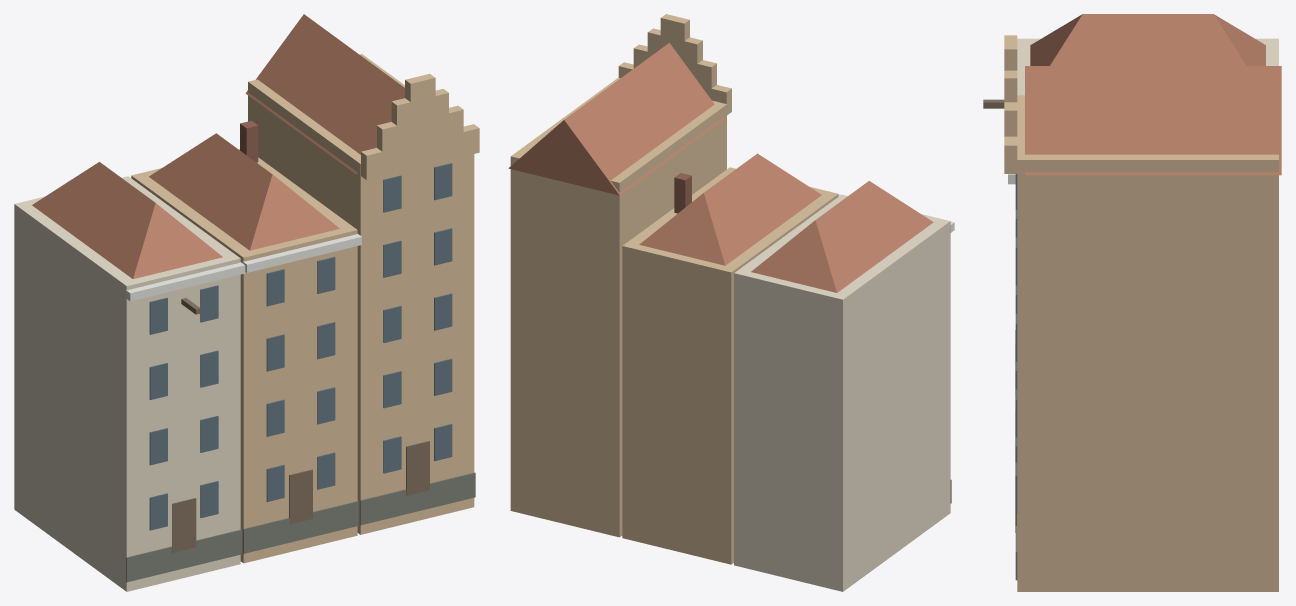
The model's file is CanalRowShort.glb.
3 renders of one model, left to right at view 1: azimuth 30°, elevation 25°; view 2: azimuth 150°, elevation 25°; view 3: azimuth 270°, elevation 25°, orthographic. The views are drawn at different scales.
Visible parts, largest first — view 1: House.008, House.010, House.009, Roof.005, Hip roof.003, Hip roof.004, Stepped gable.020, Water stain.010, Water stain.008, Water stain.009, Stepped gable.021, Cornice.003 (+33 smaller); view 2: House.008, House.010, House.009, Roof.005, Hip roof.004, Hip roof.003, Stepped gable.022, Stepped gable.021, Stepped gable.023, Stepped gable.020, Chimney.003; view 3: House.010, Roof.005, Hip roof.003, House.008, Stepped gable.020, Stepped gable.023, Stepped gable.021, Stepped gable.022.
Part boxes in pixels (x1=…): House.008: x1=14, y1=176, x2=240, y2=591; House.010: x1=248, y1=54, x2=474, y2=534; House.009: x1=131, y1=149, x2=357, y2=563; Roof.005: x1=245, y1=14, x2=404, y2=173; Hip roof.003: x1=32, y1=162, x2=222, y2=278; Hip roof.004: x1=149, y1=133, x2=339, y2=250; Stepped gable.020: x1=361, y1=124, x2=479, y2=179; Water stain.010: x1=360, y1=472, x2=475, y2=525; Water stain.008: x1=126, y1=529, x2=241, y2=582; Water stain.009: x1=243, y1=501, x2=358, y2=553; Stepped gable.021: x1=377, y1=105, x2=463, y2=151; Cornice.003: x1=125, y1=262, x2=245, y2=301; House.008: x1=734, y1=194, x2=950, y2=591; House.010: x1=510, y1=77, x2=726, y2=537; House.009: x1=622, y1=167, x2=838, y2=564; Roof.005: x1=508, y1=43, x2=724, y2=195; Hip roof.004: x1=639, y1=153, x2=821, y2=265; Hip roof.003: x1=751, y1=181, x2=933, y2=292; Stepped gable.022: x1=647, y1=28, x2=702, y2=63; Stepped gable.021: x1=633, y1=44, x2=716, y2=88; Stepped gable.023: x1=660, y1=14, x2=689, y2=41; Stepped gable.020: x1=618, y1=62, x2=731, y2=115; Chimney.003: x1=674, y1=173, x2=691, y2=213; House.010: x1=1017, y1=95, x2=1278, y2=591; Roof.005: x1=1025, y1=66, x2=1281, y2=175; Hip roof.003: x1=1030, y1=14, x2=1265, y2=65; House.008: x1=1017, y1=38, x2=1278, y2=95; Stepped gable.020: x1=1004, y1=136, x2=1017, y2=173; Stepped gable.023: x1=1004, y1=35, x2=1017, y2=70; Stepped gable.021: x1=1004, y1=102, x2=1017, y2=136; Stepped gable.022: x1=1004, y1=70, x2=1017, y2=102.
Size of the model in its own units: 17.95 by 21.8 by 11.4.
